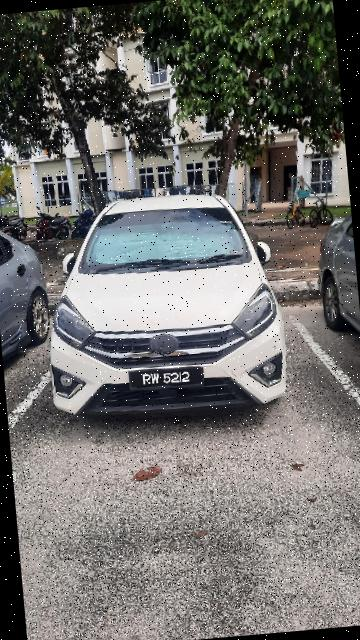License_Plate: (125, 361, 208, 393)
car: (24, 178, 304, 436)
